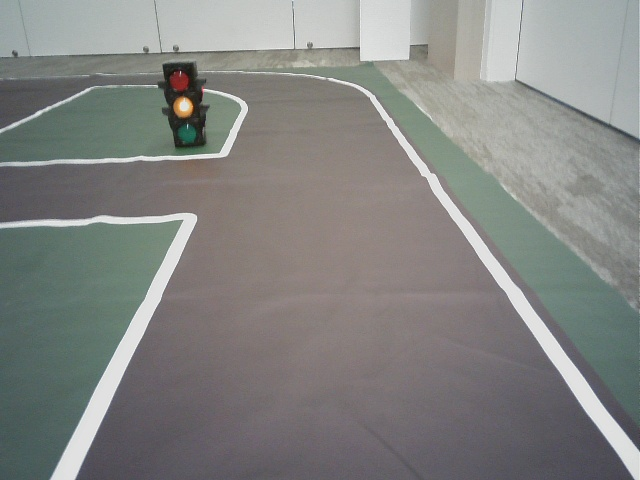yellow: (166, 65, 197, 144)
